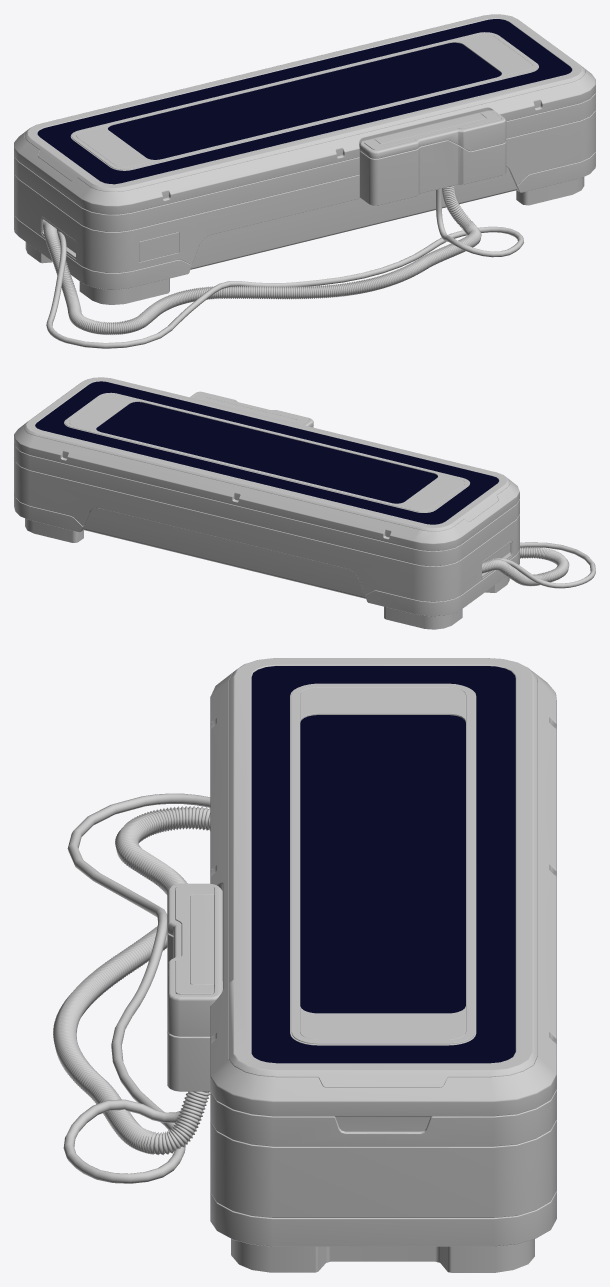
File: SM_ArtificialFloraDevice.FBX
3 renders of one model, top to bottom at view 1: azimuth 30°, elevation 25°; view 2: azimuth 150°, elevation 25°; view 3: azimuth 270°, elevation 25°, orthographic. The views are drawn at different scales.
Visible parts, largest first — view 1: SM_ArtificialFloraDevice; view 2: SM_ArtificialFloraDevice; view 3: SM_ArtificialFloraDevice.
Boxes of the visible parts, x1=… form: SM_ArtificialFloraDevice: x1=14, y1=14, x2=595, y2=348; SM_ArtificialFloraDevice: x1=14, y1=377, x2=595, y2=629; SM_ArtificialFloraDevice: x1=53, y1=658, x2=556, y2=1272.
Size of the model in its own units: 407 by 180 by 80.12.
